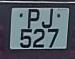2: (33, 28, 47, 50)
5: (19, 27, 33, 51)
7: (46, 27, 61, 49)
J: (40, 7, 55, 29)
P: (26, 8, 41, 29)
